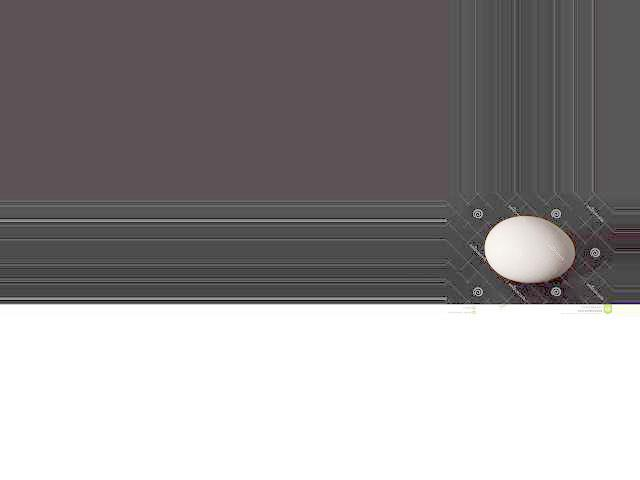egg: (483, 216, 574, 283)
